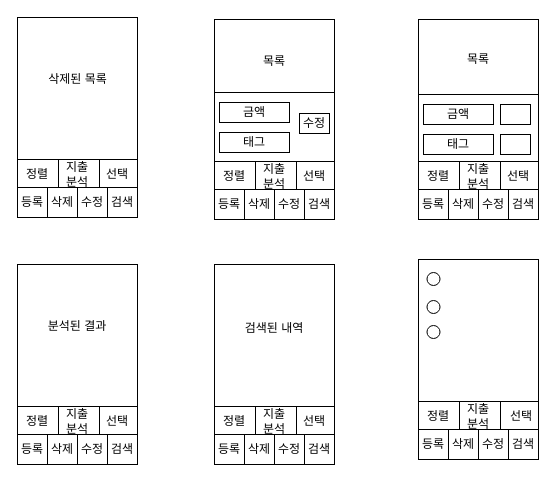
Image size: 559x483. Some labels were removed from this diagram. Here are the shapes that lost their labels. From the top down, the centre of each, then its label:
At (515,114): "지출".
At (515,144): "수입".
